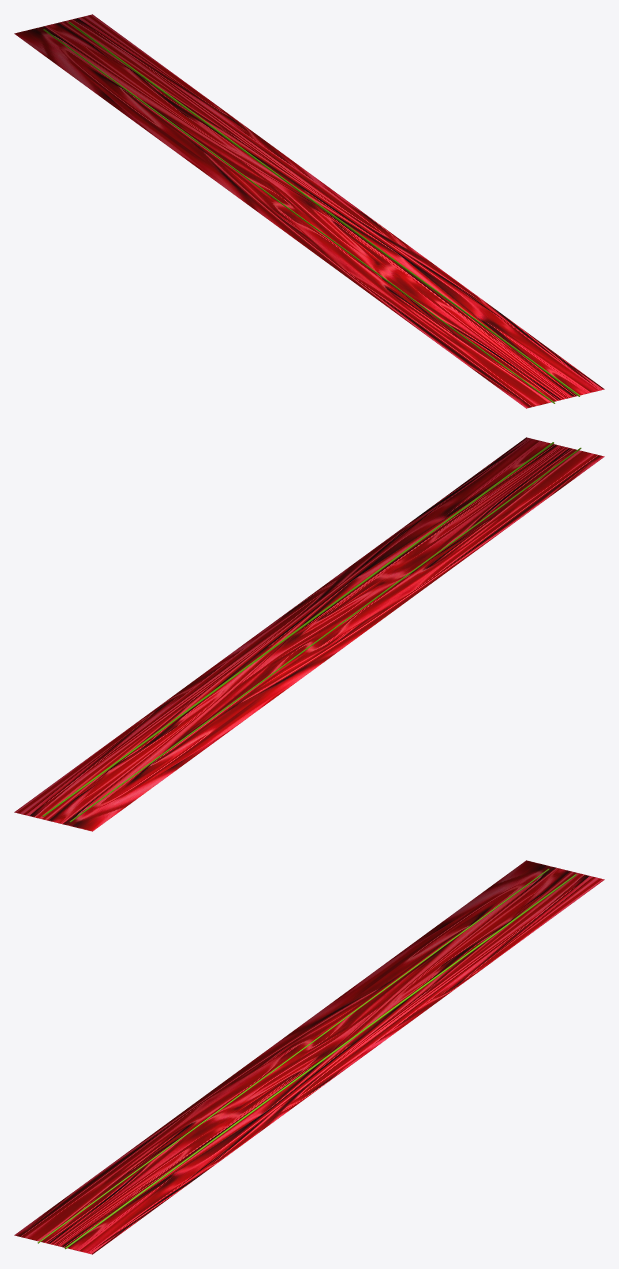
Rendered from boardRed.obj.
3 views of the same model, one above another, from view 1: azimuth 30°, elevation 25°; view 2: azimuth 150°, elevation 25°; view 3: azimuth 330°, elevation 25° (orthographic).
Visible parts, largest first — view 1: Box001, Cylinder002, Cylinder001; view 2: Box001, Cylinder002, Cylinder001; view 3: Box001, Cylinder002, Cylinder001.
Part boxes in pixels (x1,y1,x2,y2): Box001: (14,14,604,408); Cylinder002: (68,21,580,396); Cylinder001: (43,29,555,403); Box001: (14,437,604,831); Cylinder002: (42,442,553,816); Cylinder001: (69,447,581,822); Box001: (14,860,604,1254); Cylinder002: (64,874,576,1249); Cylinder001: (37,868,549,1243).
Size of the model in its own units: 1742 by 33.95 by 19738.
